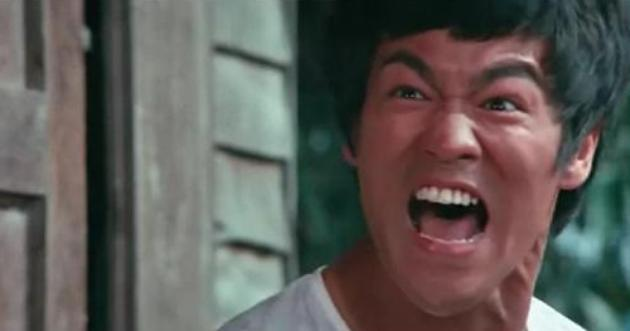anger: (370, 23, 557, 324)
